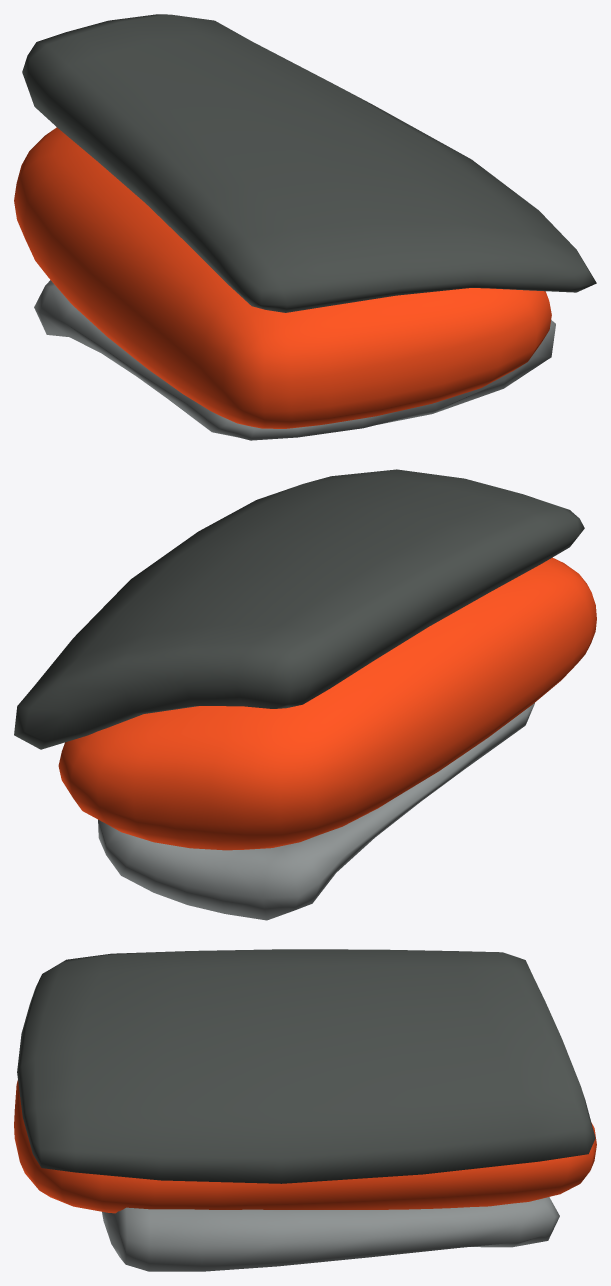
Rendered from xsens_RightThirdMC.dae.
3 views of the same model, one above another, from view 1: azimuth 30°, elevation 25°; view 2: azimuth 150°, elevation 25°; view 3: azimuth 270°, elevation 25° (orthographic). The views are drawn at different scales.
Visible parts, largest first — view 1: RightThirdMC; view 2: RightThirdMC; view 3: RightThirdMC.
Part boxes in pixels (x1,y1,x2,y2): RightThirdMC: (14,14,596,440); RightThirdMC: (14,469,596,920); RightThirdMC: (14,949,596,1271).
Bounding box in the file's own units: 0.0431 × 0.067 × 0.0318.
